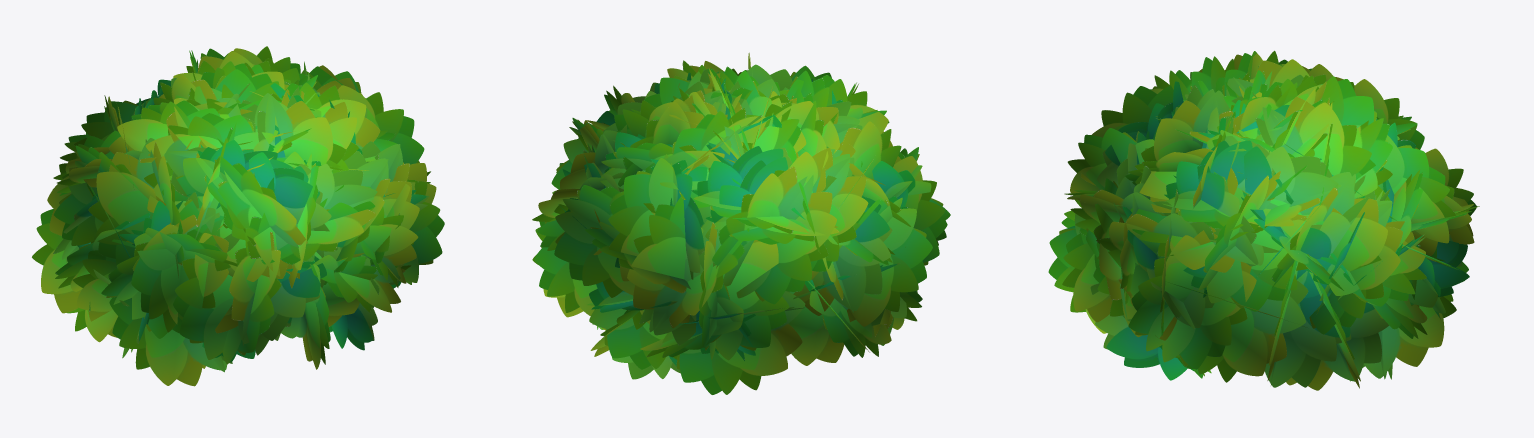
Rendered from bush_it01.fbx.
3 renders of one model, left to right at view 1: azimuth 30°, elevation 25°; view 2: azimuth 150°, elevation 25°; view 3: azimuth 270°, elevation 25°, orthographic. The views are drawn at different scales.
Visible parts, largest first — view 1: Bush; view 2: Bush; view 3: Bush.
Part boxes in pixels (x1,y1,x2,y2): Bush: (32,46,444,386); Bush: (532,52,950,394); Bush: (1048,50,1479,390).
Size of the model in its own units: 252 by 196 by 254.
